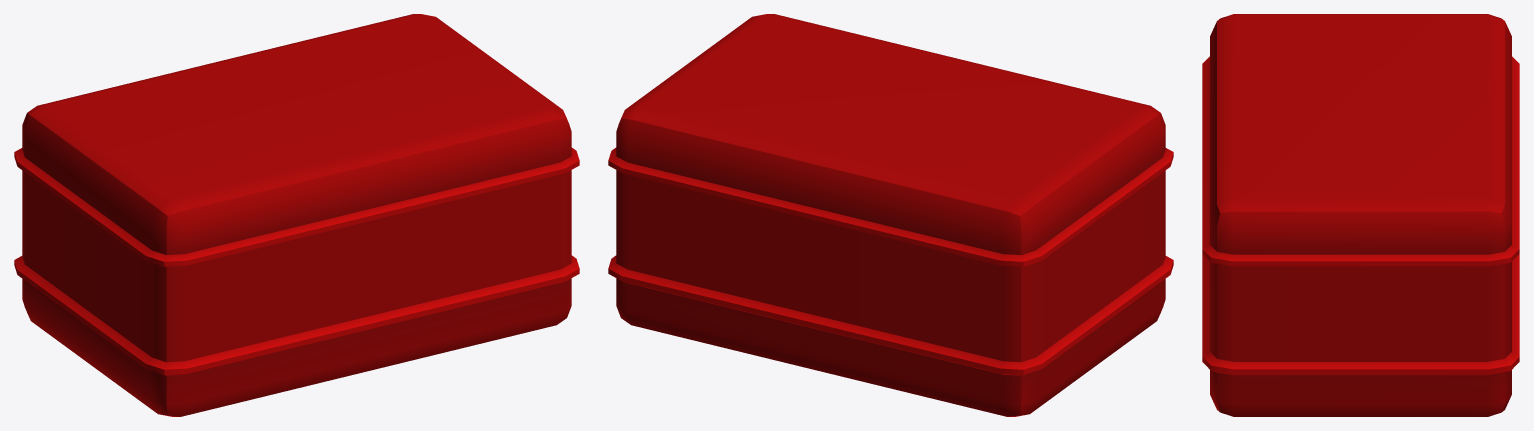
The model's file is SquareHayBale.glb.
3 views of the same model, side by side, from view 1: azimuth 30°, elevation 25°; view 2: azimuth 150°, elevation 25°; view 3: azimuth 270°, elevation 25° (orthographic).
Visible parts, largest first — view 1: SquareHayBale; view 2: SquareHayBale; view 3: SquareHayBale.
Boxes of the visible parts, box(x1,y1,x2,y2) form: SquareHayBale: box(14, 14, 579, 416); SquareHayBale: box(608, 14, 1173, 416); SquareHayBale: box(1202, 14, 1519, 416).
Bounding box in the file's own units: 4.95 × 2.4 × 3.16.
